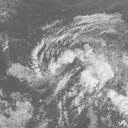cyclone: (35, 37, 102, 99)
